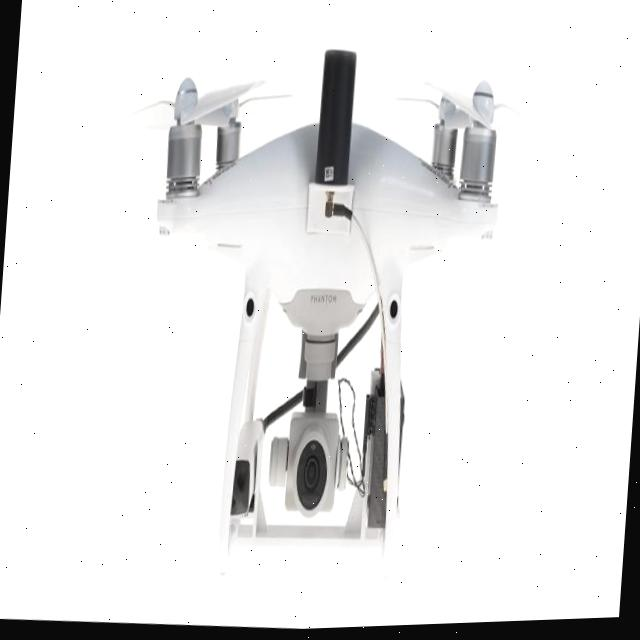drone: (102, 23, 549, 376)
